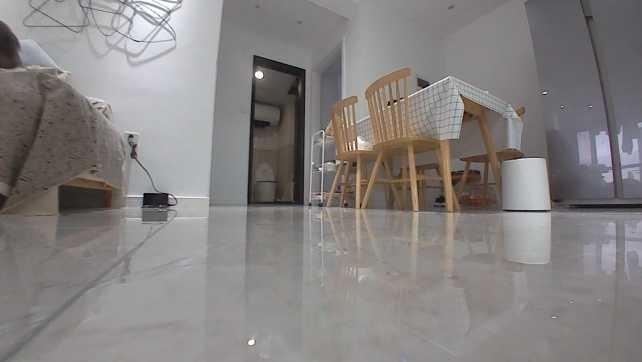charger: (136, 190, 169, 209)
dining_table: (323, 66, 520, 210)
refrigerator: (519, 0, 640, 208)
sofa1: (0, 63, 122, 207)
toilet: (253, 159, 280, 201)
wire: (127, 133, 178, 205)
